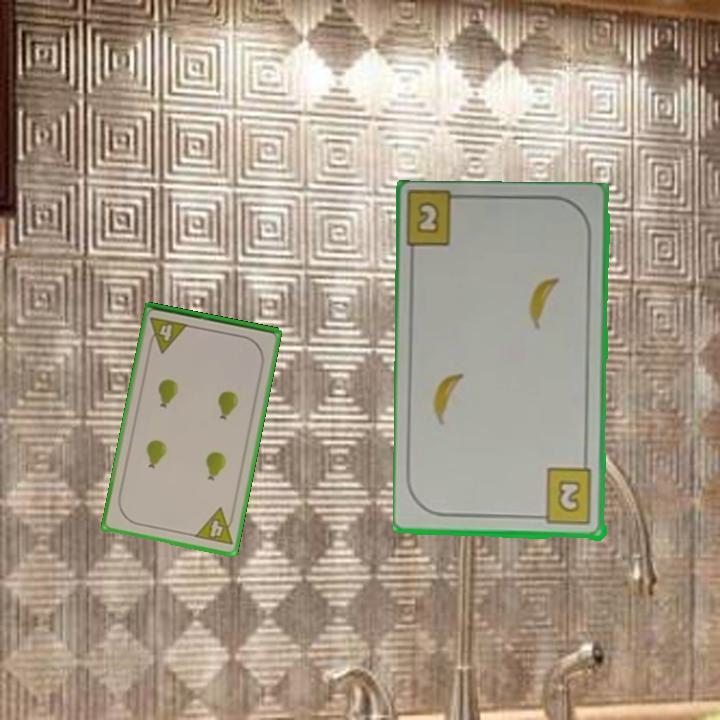2b: (533, 466, 596, 528), (413, 198, 443, 237)
4p: (191, 504, 238, 548), (145, 313, 191, 356)
